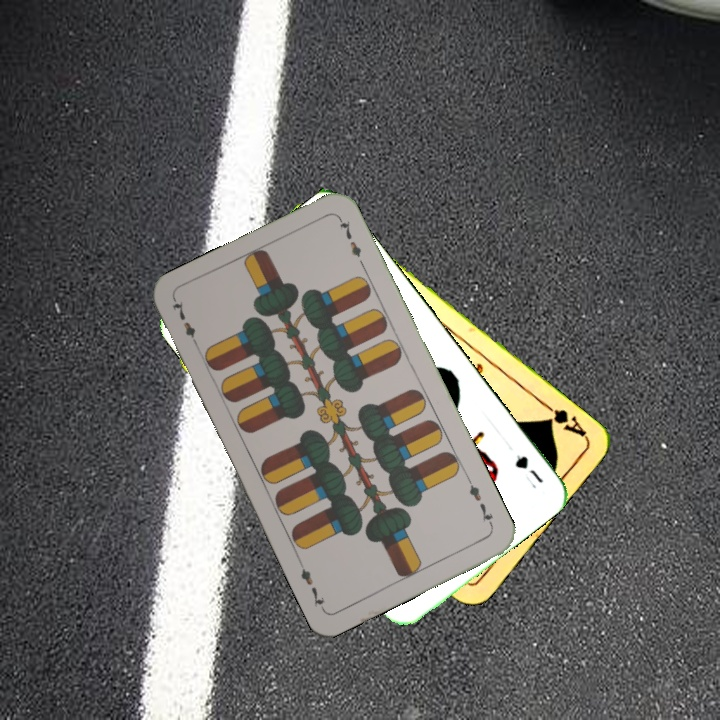E7: (168, 296, 203, 351), (463, 475, 496, 530)
GA: (538, 397, 590, 440)
GU: (510, 450, 546, 492)
